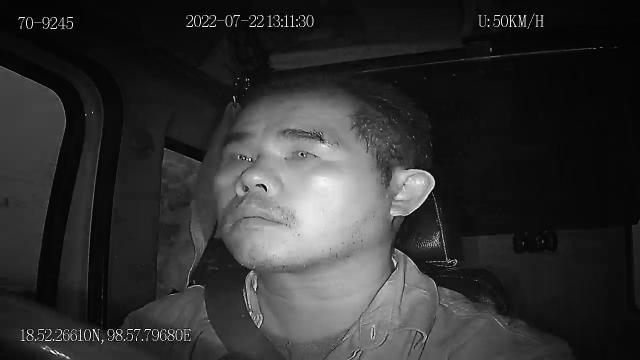SafeDriving: (278, 136, 328, 168), (220, 138, 260, 172)
Seatbelt: (202, 266, 288, 360)
